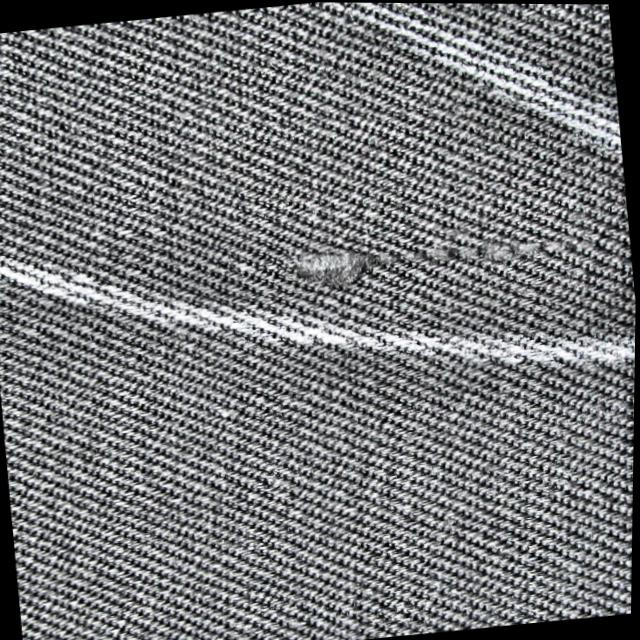Hole: (253, 200, 603, 303)
